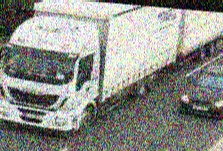truck: (0, 0, 223, 149)
